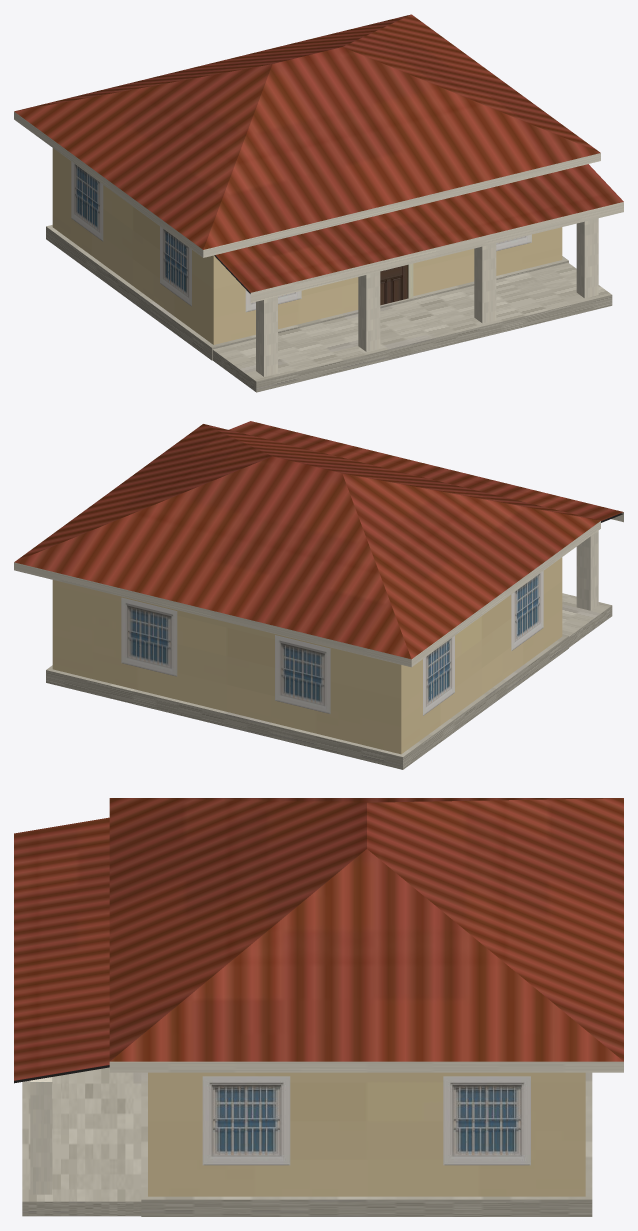
The model's file is bungalow-cream-far.glb.
The picture shows the model from 3 angles, top to bottom: view 1: azimuth 30°, elevation 25°; view 2: azimuth 150°, elevation 25°; view 3: azimuth 270°, elevation 25°; orthographic projection. The views are drawn at different scales.
Parts seen in each view (by area): view 1: bungalow-cream; view 2: bungalow-cream; view 3: bungalow-cream.
Part boxes in pixels (bbox=[...]): bungalow-cream: bbox=[14, 14, 623, 392]; bungalow-cream: bbox=[14, 421, 623, 769]; bungalow-cream: bbox=[14, 798, 623, 1216].
Size of the model in its own units: 11.4 by 5.5 by 11.15.
Materials: 1 (1 with a texture image).
